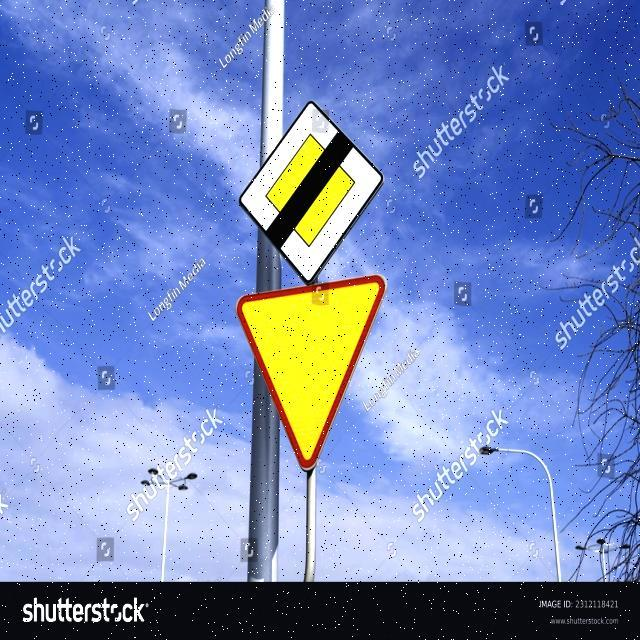Traffic sign: (227, 97, 395, 476)
